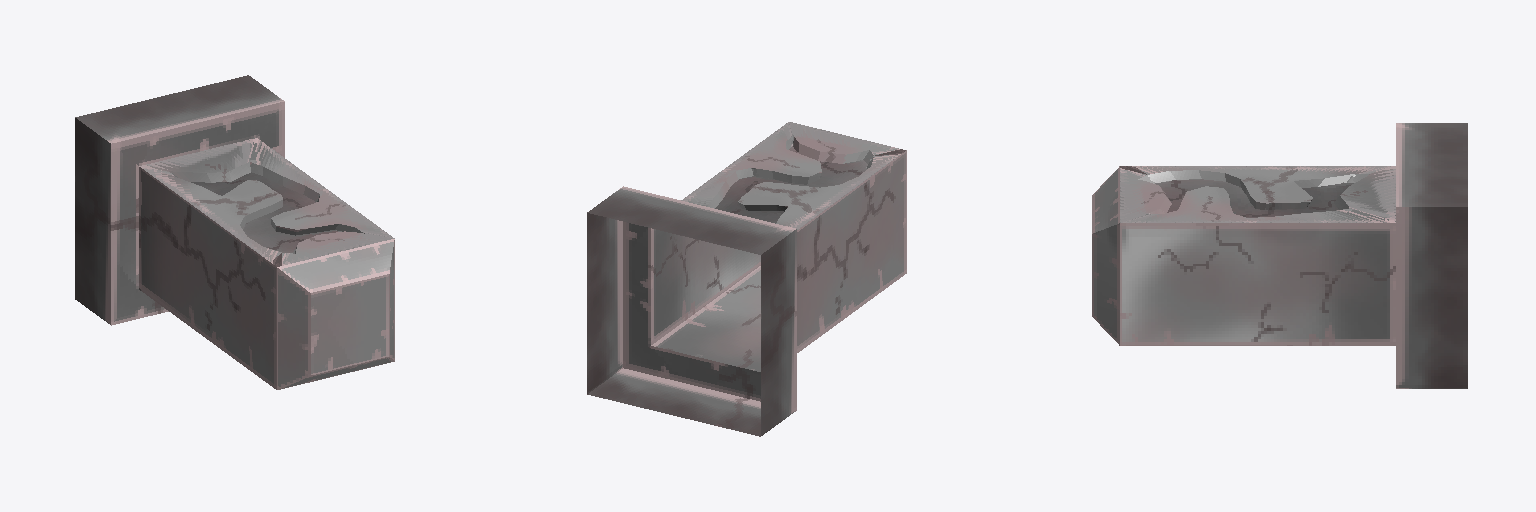
The picture shows the model from 3 angles: view 1: azimuth 30°, elevation 25°; view 2: azimuth 150°, elevation 25°; view 3: azimuth 270°, elevation 25°; orthographic projection.
Parts seen in each view (by area): view 1: Cube; view 2: Cube; view 3: Cube.
Part boxes in pixels (bbox=[...]): Cube: bbox=[75, 75, 394, 389]; Cube: bbox=[587, 122, 906, 436]; Cube: bbox=[1092, 123, 1467, 388].
Bounding box in the file's own units: 4.7 × 4.7 × 8.82.
1 materials, 1 textured.